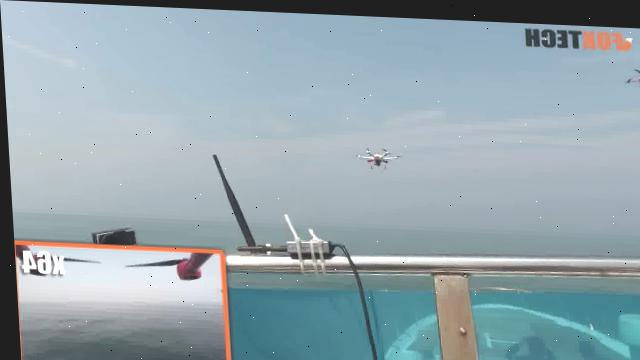drone: (337, 139, 404, 171)
